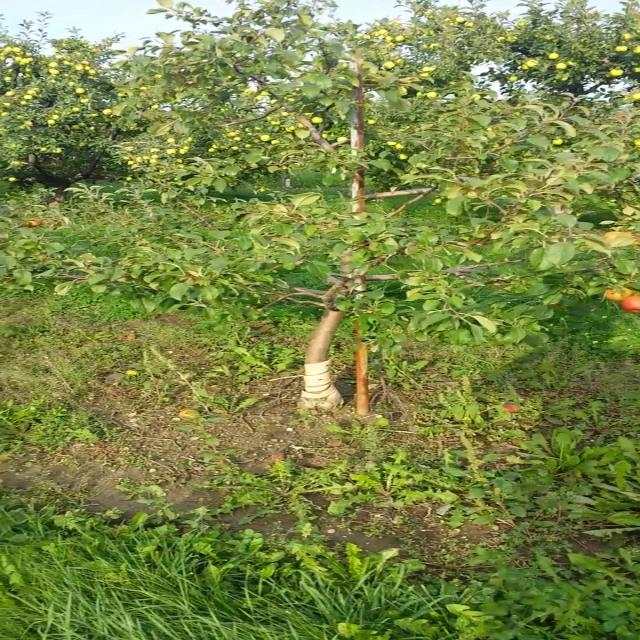apple: (605, 286, 631, 302), (621, 296, 639, 312), (26, 218, 42, 228)
